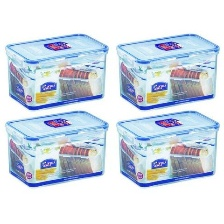plastic_box: (0, 27, 115, 114), (0, 103, 112, 192), (112, 105, 224, 191), (112, 27, 224, 113)
